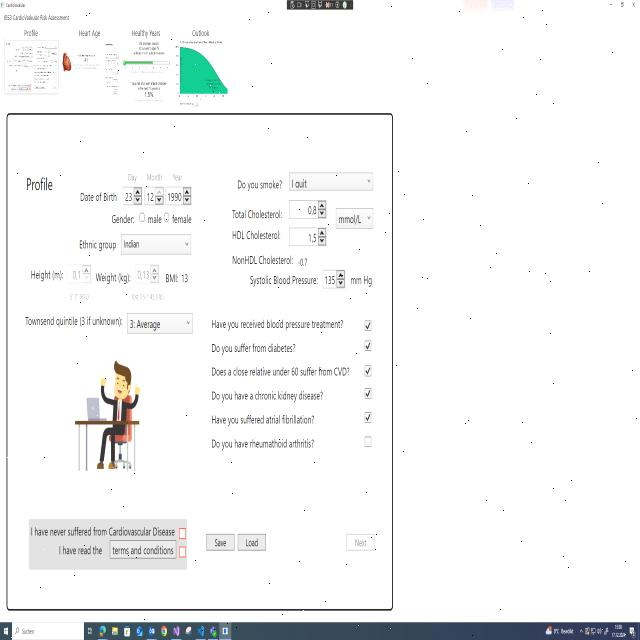button: (107, 539, 177, 562), (237, 529, 270, 555), (204, 529, 236, 555), (344, 529, 377, 554), (614, 0, 628, 12), (628, 0, 640, 12), (604, 0, 614, 10)
checkbox: (363, 434, 374, 452), (178, 544, 190, 560), (363, 362, 373, 378), (363, 386, 373, 402), (178, 525, 188, 541), (363, 338, 372, 354), (363, 410, 372, 426), (364, 318, 372, 334)
dropdownMenu: (287, 168, 375, 195), (119, 231, 193, 259), (126, 308, 194, 336), (334, 204, 375, 232)
input: (12, 621, 84, 640)
label: (27, 516, 175, 537), (208, 384, 329, 408), (206, 315, 348, 335), (209, 362, 355, 381), (208, 409, 320, 430), (24, 311, 123, 332), (209, 436, 321, 454), (228, 250, 316, 272), (209, 338, 304, 356), (227, 201, 285, 223), (233, 172, 286, 196), (246, 274, 319, 290), (19, 173, 62, 200), (228, 227, 284, 245), (54, 542, 105, 561), (72, 232, 117, 253), (348, 265, 382, 292), (26, 262, 64, 284), (2, 10, 70, 22), (72, 190, 118, 206), (128, 20, 166, 39), (95, 266, 132, 285), (127, 291, 172, 305), (164, 268, 195, 286), (74, 22, 104, 40), (106, 210, 136, 226), (144, 162, 165, 183), (68, 288, 94, 304), (172, 209, 195, 226), (188, 24, 214, 38), (170, 165, 187, 184), (124, 161, 138, 184), (20, 23, 39, 38), (147, 214, 162, 225)
radio: (163, 211, 170, 223), (139, 211, 145, 223)
upDown: (286, 196, 328, 222), (287, 224, 328, 248), (134, 259, 162, 288), (321, 266, 347, 292), (66, 260, 92, 285), (165, 185, 193, 208), (120, 185, 143, 208), (144, 185, 164, 207)
